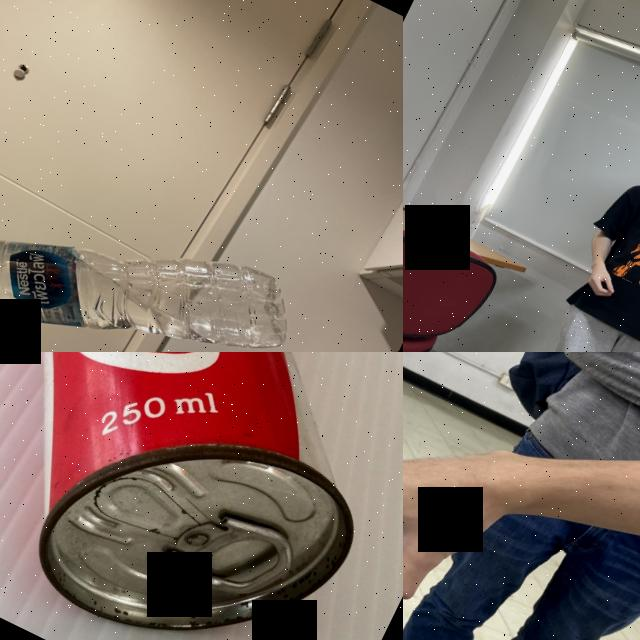bottle: (0, 138, 315, 352)
can: (0, 352, 403, 640)
